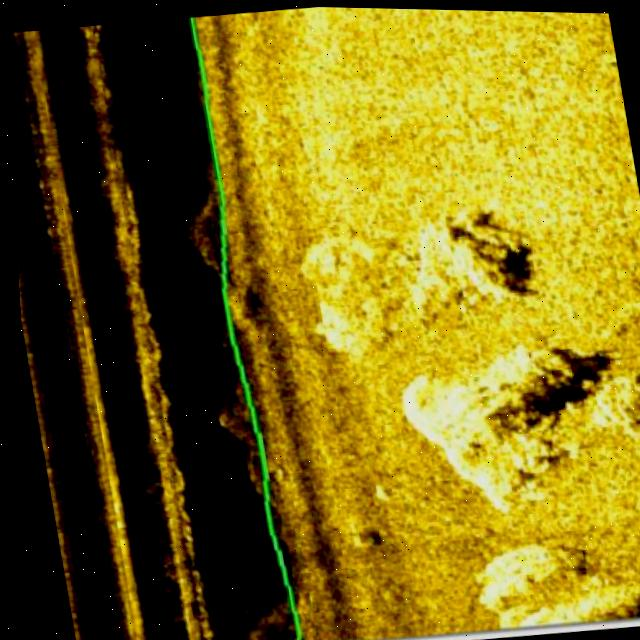bedrock group: (281, 181, 640, 640)
